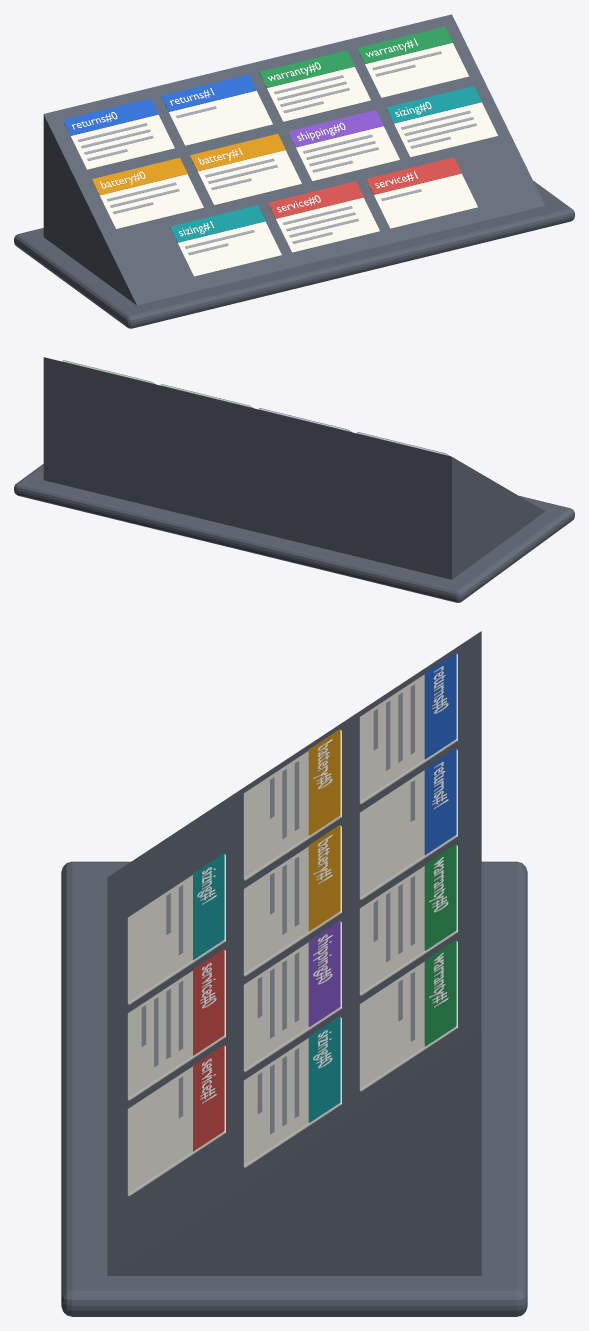
File: chunker.glb
3 views of the same model, one above another, from view 1: azimuth 30°, elevation 25°; view 2: azimuth 150°, elevation 25°; view 3: azimuth 270°, elevation 25° (orthographic). The views are drawn at different scales.
Visible parts, largest first — view 1: slope, stand, returns#1_stock, service#1_stock, sizing#1_stock, warranty#1_stock, battery#1_stock, battery#0_stock, shipping#0_stock, service#0_stock, returns#0_stock, sizing#0_stock (+19 smaller); view 2: slope, stand; view 3: slope, stand, returns#1_stock, service#1_stock, sizing#1_stock, warranty#1_stock, battery#0_stock, battery#1_stock, warranty#0_stock, returns#0_stock, service#0_stock, shipping#0_stock (+19 smaller).
Boxes of the visible parts, x1,y1,x2,y2 form: slope: (43,14,545,305); stand: (14,180,574,328); returns#1_stock: (160,90,272,146); service#1_stock: (366,173,477,229); sizing#1_stock: (169,221,281,276); warranty#1_stock: (357,43,468,98); battery#1_stock: (189,150,301,205); battery#0_stock: (91,174,203,229); shipping#0_stock: (288,126,399,181); service#0_stock: (267,197,379,252); returns#0_stock: (62,114,174,170); sizing#0_stock: (386,102,497,157); slope: (43,357,544,579); stand: (14,464,574,602); slope: (107,631,481,1275); stand: (61,861,527,1316); returns#1_stock: (359,749,457,899); service#1_stock: (127,1046,225,1196); sizing#1_stock: (127,854,225,1004); warranty#1_stock: (359,941,457,1091); battery#0_stock: (243,730,341,880); battery#1_stock: (243,826,341,976); warranty#0_stock: (359,845,457,995); returns#0_stock: (359,654,457,804); service#0_stock: (127,950,225,1100); shipping#0_stock: (243,921,341,1072).
Bounding box in the file's own units: 1.12 × 0.3239 × 0.5045.
